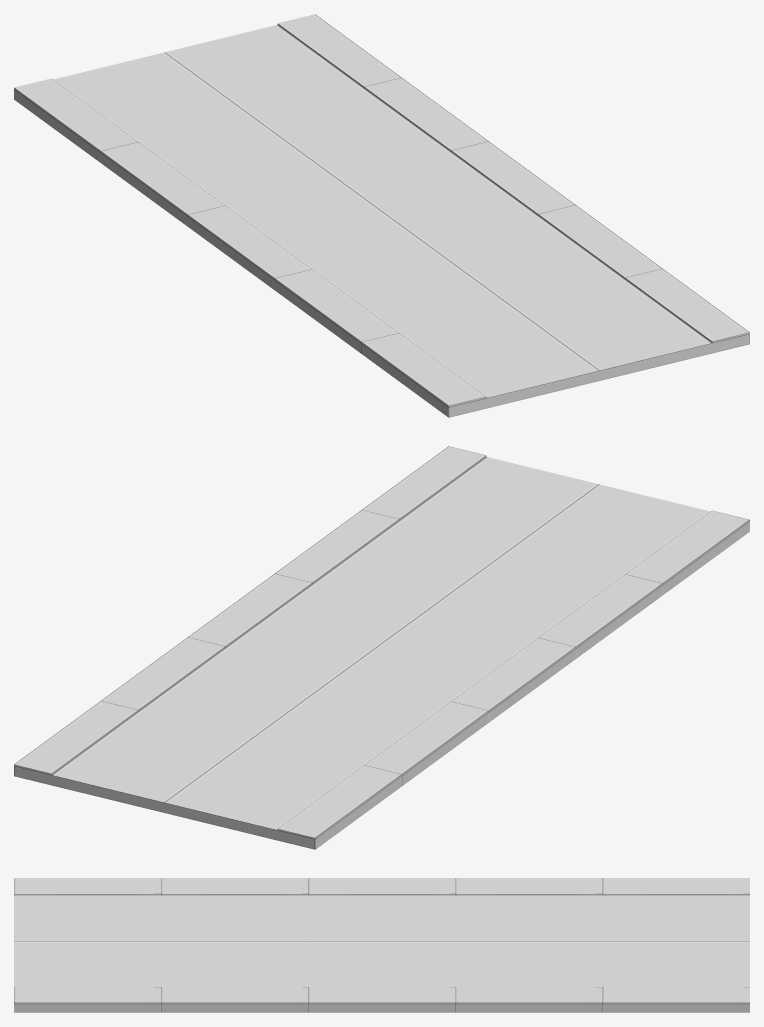
The model's file is Road-11.fbx.
3 views of the same model, one above another, from view 1: azimuth 30°, elevation 25°; view 2: azimuth 150°, elevation 25°; view 3: azimuth 270°, elevation 25° (orthographic). The views are drawn at different scales.
Visible parts, largest first — view 1: Road_11; view 2: Road_11; view 3: Road_11.
Boxes of the visible parts, left/top/right/bottom form: Road_11: left=14, top=14, right=749, bottom=417; Road_11: left=14, top=446, right=749, bottom=849; Road_11: left=14, top=878, right=749, bottom=1012.
Bounding box in the file's own units: 8 × 0.3 × 20.
